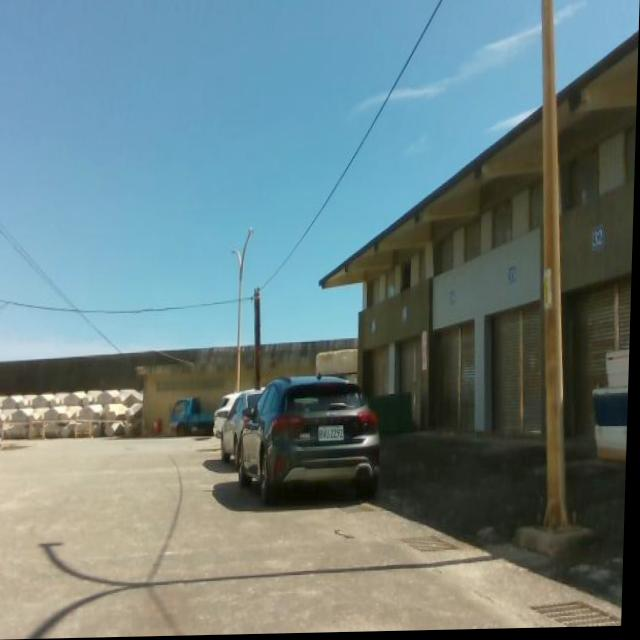pollute: (589, 349, 632, 468)
